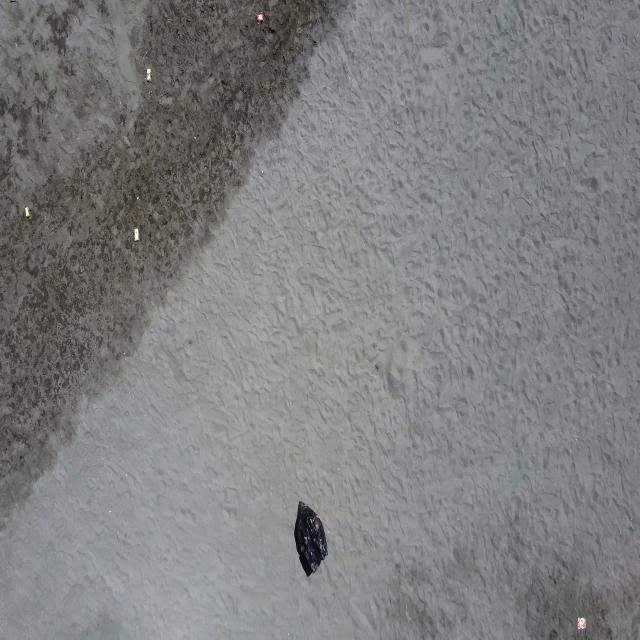retort-pouch: (576, 618, 588, 632), (255, 10, 265, 24), (145, 68, 152, 84), (24, 206, 31, 220), (134, 227, 139, 243)
